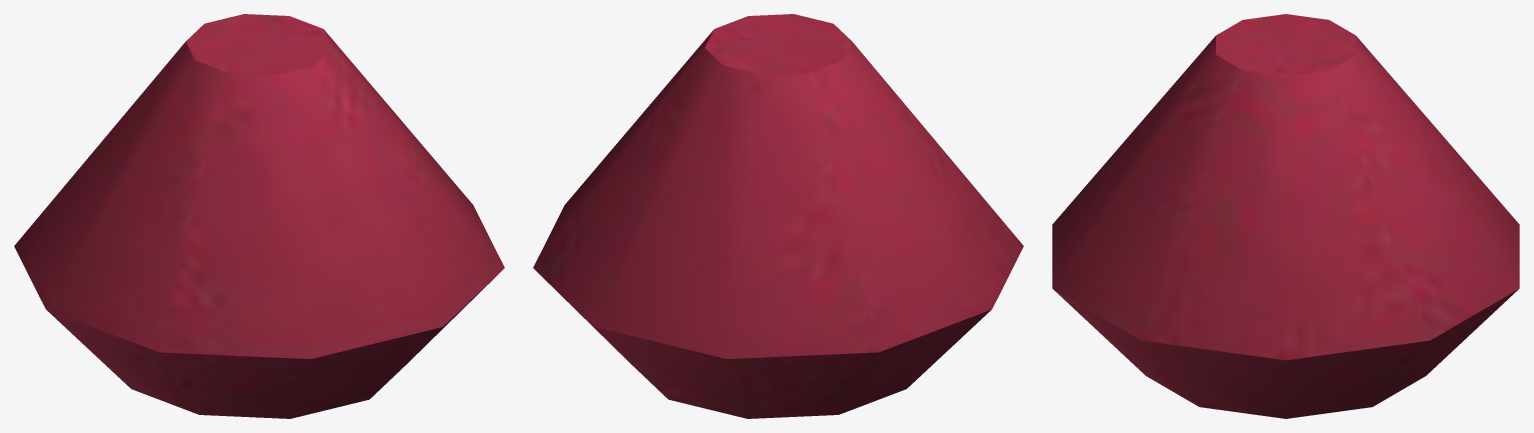
File: yumako.glb
3 views of the same model, side by side, from view 1: azimuth 30°, elevation 25°; view 2: azimuth 150°, elevation 25°; view 3: azimuth 270°, elevation 25° (orthographic).
Parts seen in each view (by area): view 1: yumako; view 2: yumako; view 3: yumako.
Part boxes in pixels (x1,y1,x2,y2): yumako: (14,14,504,418); yumako: (533,14,1023,418); yumako: (1052,14,1519,418).
Bounding box in the file's own units: 0.2 × 0.14 × 0.1902.
Materials: 1 (1 with a texture image).
